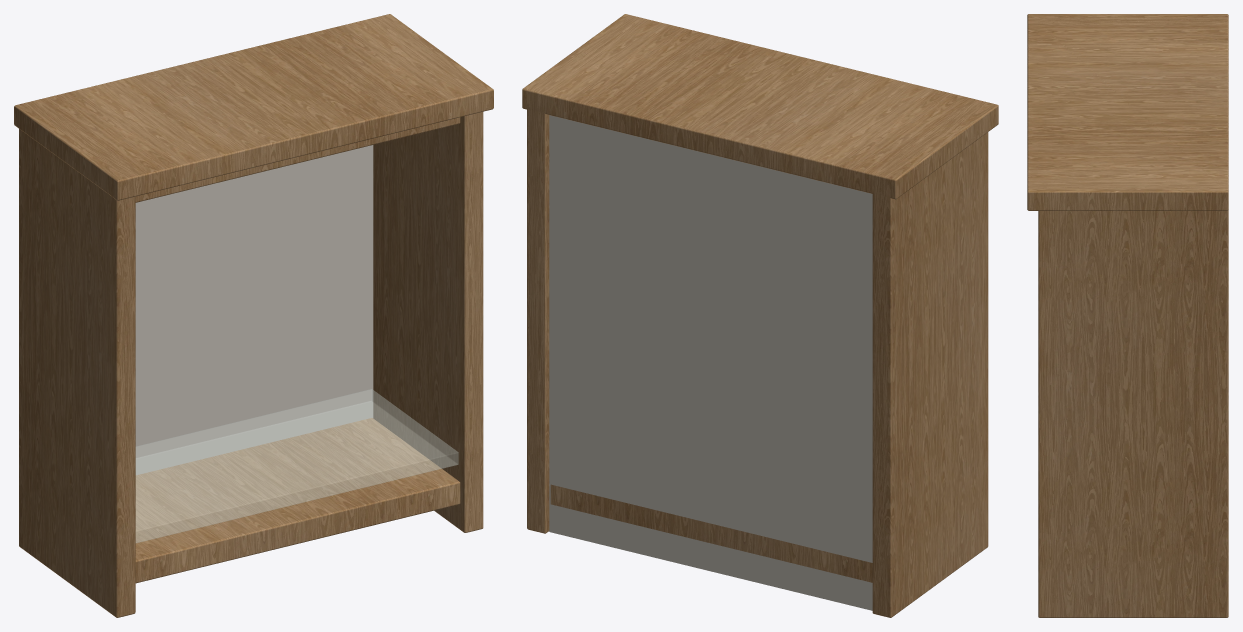
The model's file is cabinet.glb.
3 renders of one model, left to right at view 1: azimuth 30°, elevation 25°; view 2: azimuth 150°, elevation 25°; view 3: azimuth 270°, elevation 25°, orthographic. The views are drawn at different scales.
Visible parts, largest first — view 1: Cabinet, GlassShelf; view 2: Cabinet; view 3: Cabinet.
Boxes of the visible parts, x1=… form: Cabinet: x1=14, y1=14, x2=493, y2=617; GlassShelf: x1=136, y1=389, x2=458, y2=542; Cabinet: x1=522, y1=14, x2=998, y2=617; Cabinet: x1=1027, y1=14, x2=1228, y2=617.
Size of the model in its own units: 3.1 by 3.48 by 1.48.
5 materials, 1 textured.
